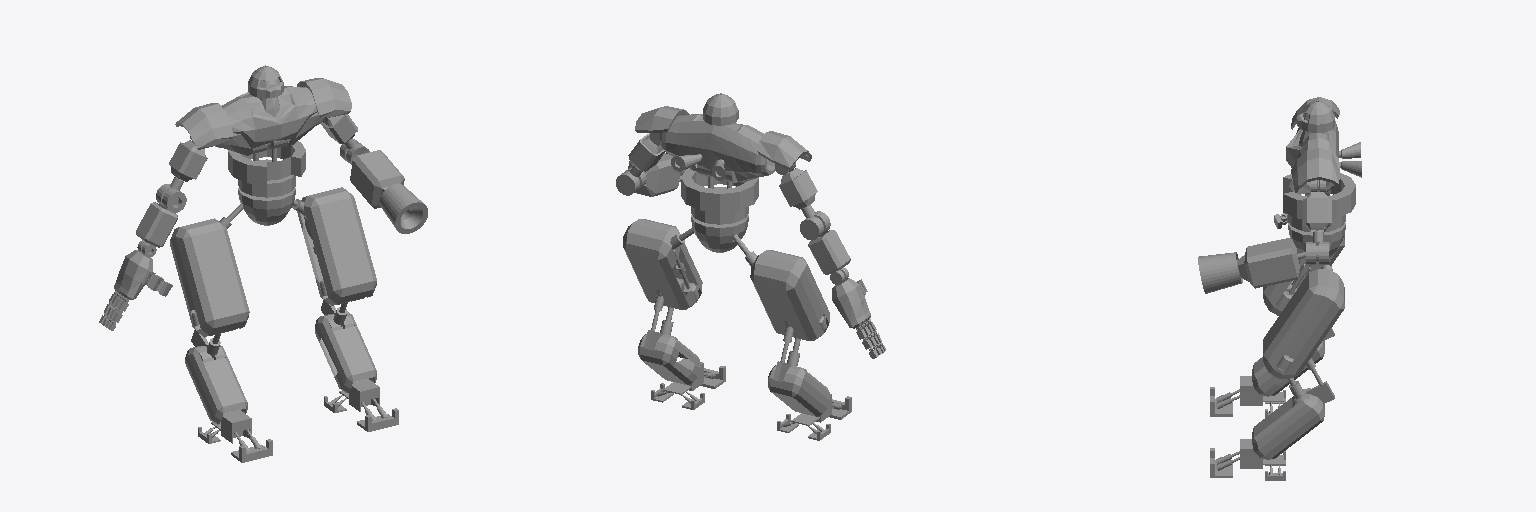
File: robotBOI.obj
The picture shows the model from 3 angles: view 1: azimuth 30°, elevation 25°; view 2: azimuth 150°, elevation 25°; view 3: azimuth 270°, elevation 25°; orthographic projection.
Visible parts, largest first — view 1: Cylinder; view 2: Cylinder; view 3: Cylinder.
Part boxes in pixels (bbox=[...]): Cylinder: bbox=[99, 65, 427, 462]; Cylinder: bbox=[616, 93, 885, 440]; Cylinder: bbox=[1198, 97, 1361, 480].
Bounding box in the file's own units: 15.28 × 18.55 × 8.14.